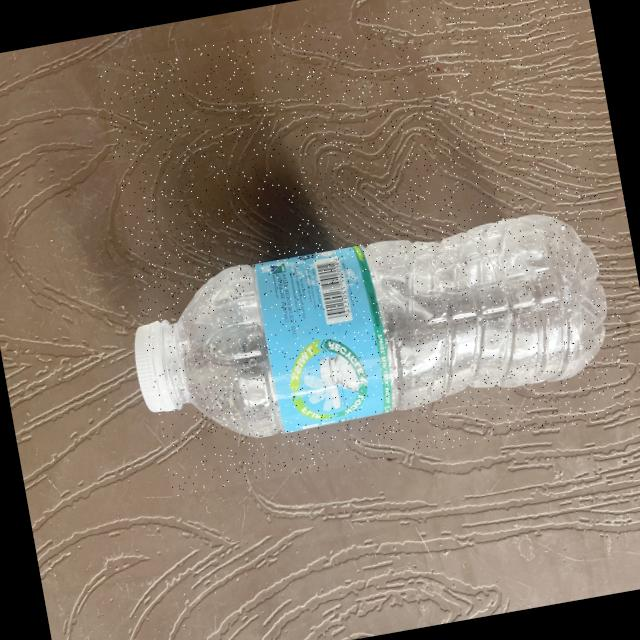REJECT: (96, 0, 637, 495)
